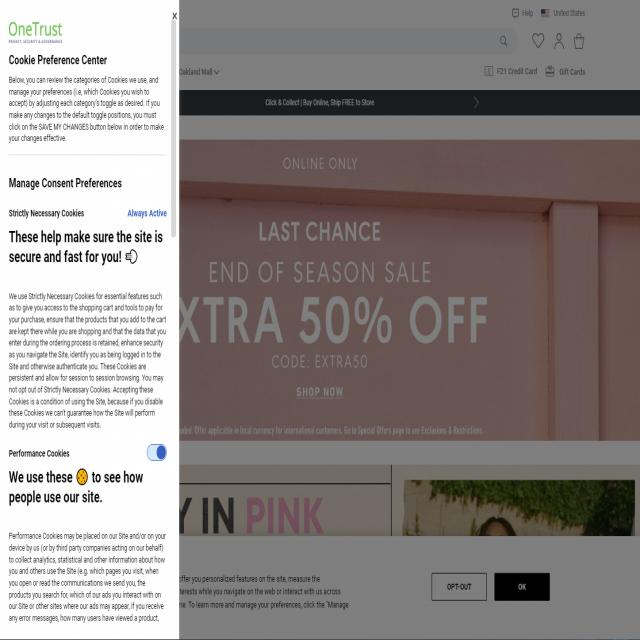sneaking: (4, 199, 168, 227), (3, 444, 168, 468)
